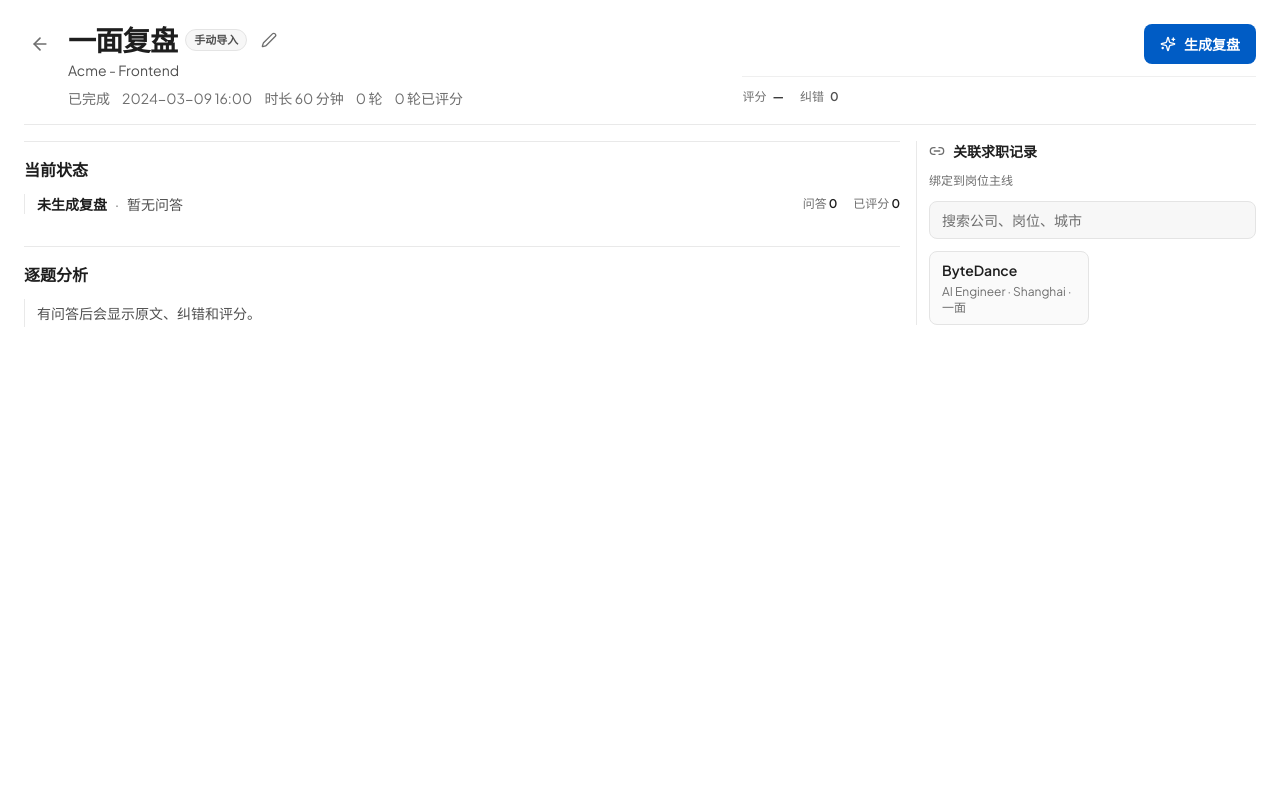
Test: ReviewSessionDetail › refreshes the detail immediately when analysis is already done
This screenshot has width=1280, height=800.
Click the button "生成复盘" at [1200, 44], box 1144,24 -> 1256,64
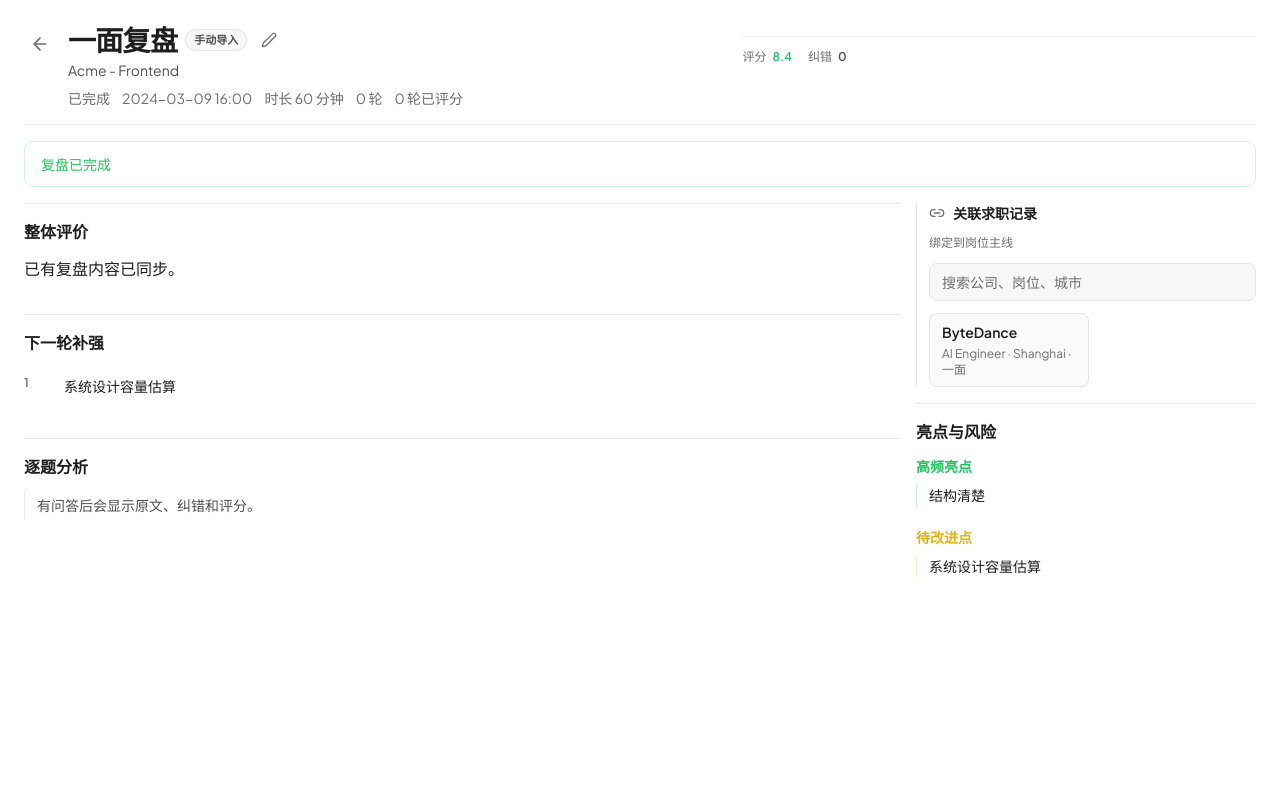
Expected: the text "复盘已完成" is shown, 24,141 -> 1256,187
Expected: the text "已有复盘内容已同步。" is shown, 24,258 -> 184,279
Expected: the text "8.4" is shown, 772,49 -> 792,65
